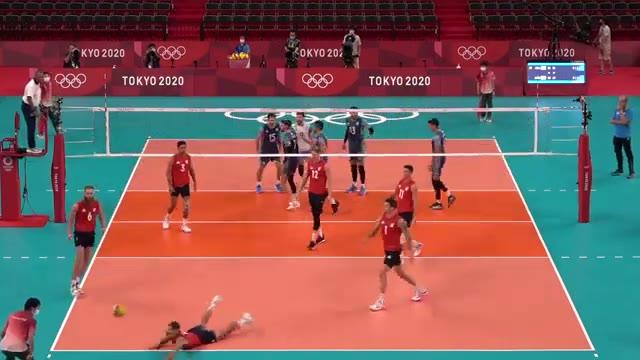ball: (109, 302, 127, 317)
